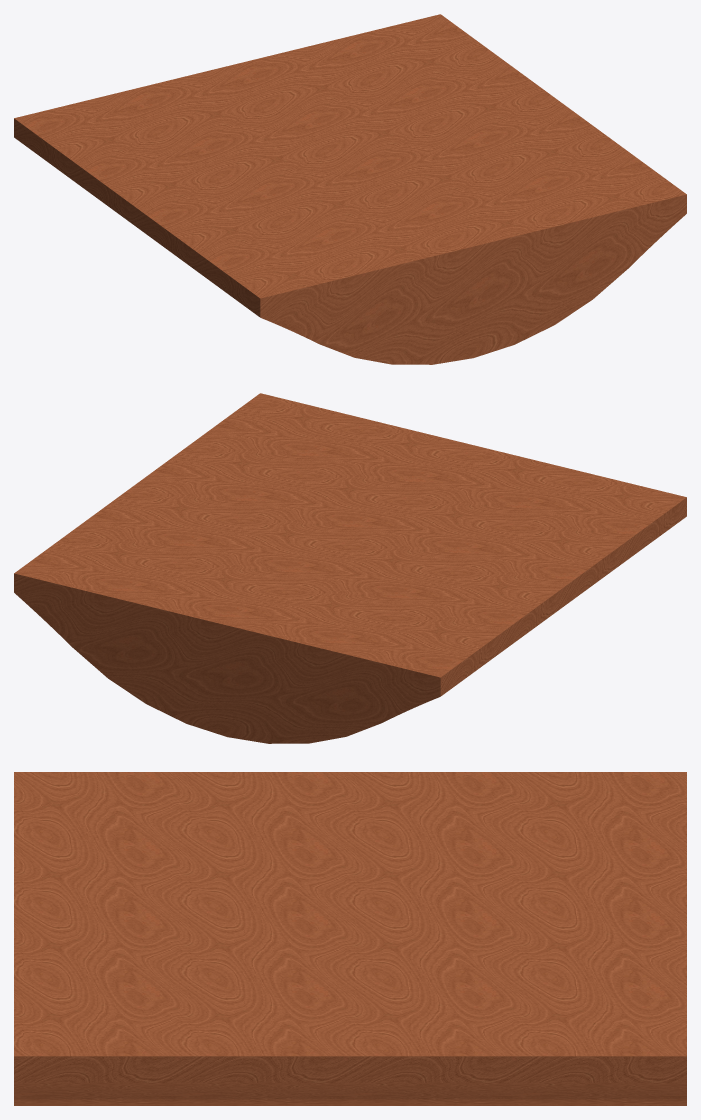
Rendered from WaveU.glb.
The picture shows the model from 3 angles, top to bottom: view 1: azimuth 30°, elevation 25°; view 2: azimuth 150°, elevation 25°; view 3: azimuth 270°, elevation 25°; orthographic projection. The views are drawn at different scales.
Visible parts, largest first — view 1: 2779; view 2: 2779; view 3: 2779.
Part boxes in pixels (x1,y1,x2,y2): 2779: (14, 14, 686, 364); 2779: (14, 393, 686, 743); 2779: (14, 772, 686, 1105).
Size of the model in its own units: 1.22 by 0.3048 by 1.22.
Materials: 37 (37 with a texture image).
